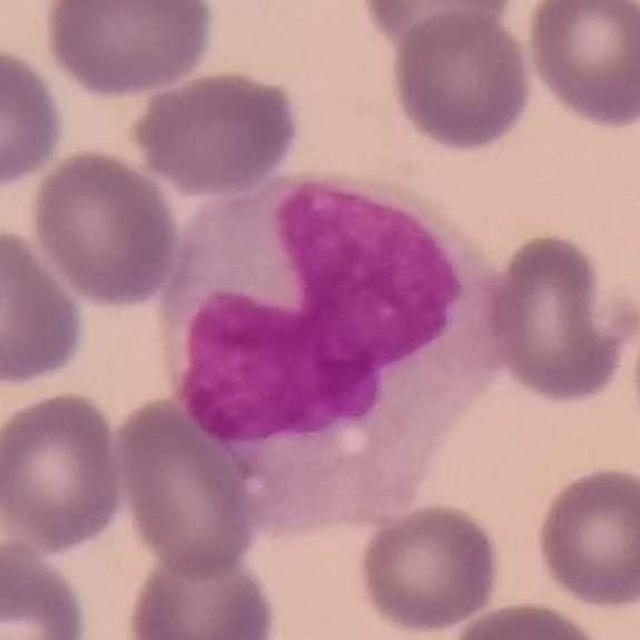mono: (157, 157, 510, 532)
